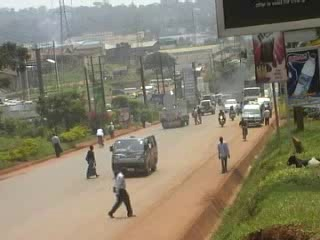Car: (197, 97, 215, 116), (222, 97, 238, 113)
Motorcycle: (215, 107, 226, 126), (227, 103, 236, 121)
